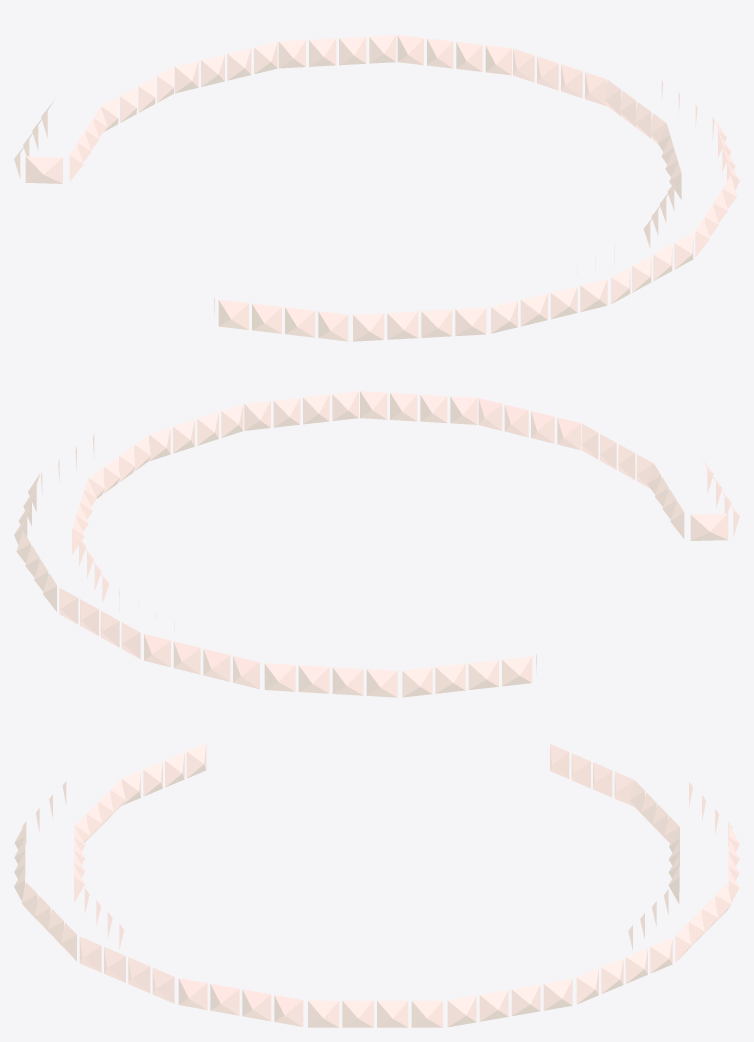
Rendered from light_ring.glb.
3 views of the same model, one above another, from view 1: azimuth 30°, elevation 25°; view 2: azimuth 150°, elevation 25°; view 3: azimuth 270°, elevation 25° (orthographic).
Parts seen in each view (by area): view 1: lightRing; view 2: lightRing; view 3: lightRing.
Part boxes in pixels (box(x1,y1,x2,y2)): lightRing: box(14, 35, 739, 341); lightRing: box(14, 391, 739, 697); lightRing: box(14, 743, 739, 1027).
Size of the model in its own units: 3.94 by 0.1796 by 4.33.
1 material, 1 textured.
